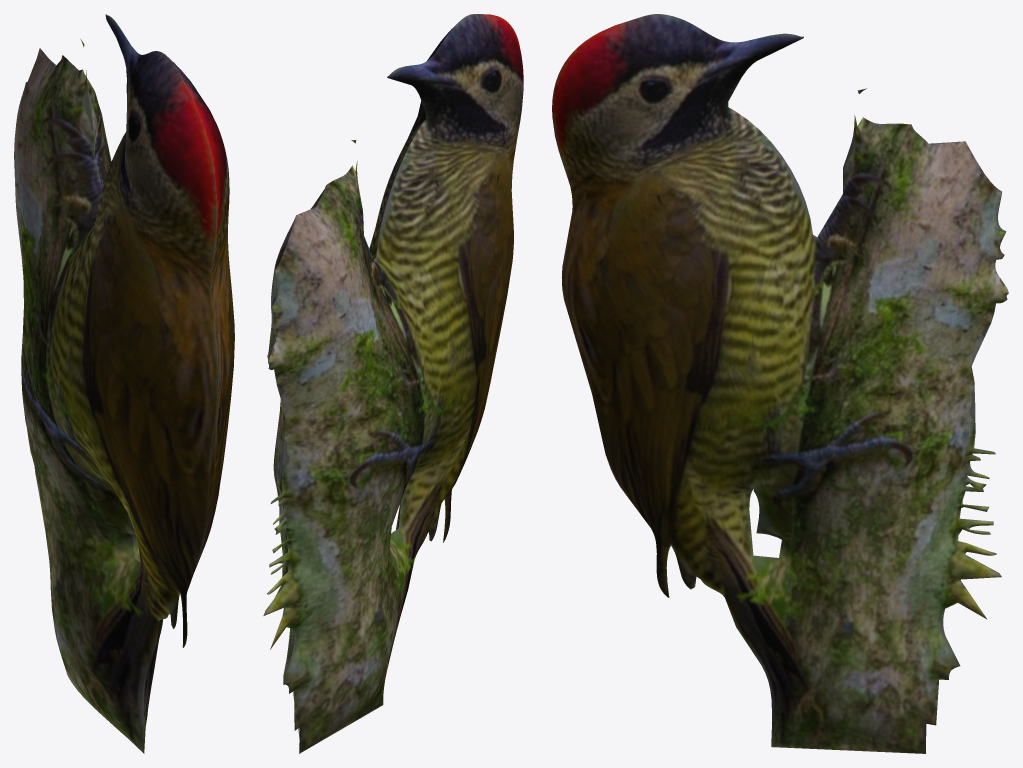
File: Colaptes_rubiginosus-removebg-preview.gltf
The picture shows the model from 3 angles, left to right: view 1: azimuth 30°, elevation 25°; view 2: azimuth 150°, elevation 25°; view 3: azimuth 270°, elevation 25°; orthographic projection. The views are drawn at different scales.
Visible parts, largest first — view 1: node1; view 2: node1; view 3: node1.
Boxes of the visible parts, x1,y1,x2,y2 form: node1: (14, 14, 234, 753); node1: (263, 14, 523, 753); node1: (552, 14, 1008, 753).
Bounding box in the file's own units: 0.4009 × 2.06 × 1.19.
Materials: 1 (1 with a texture image).
